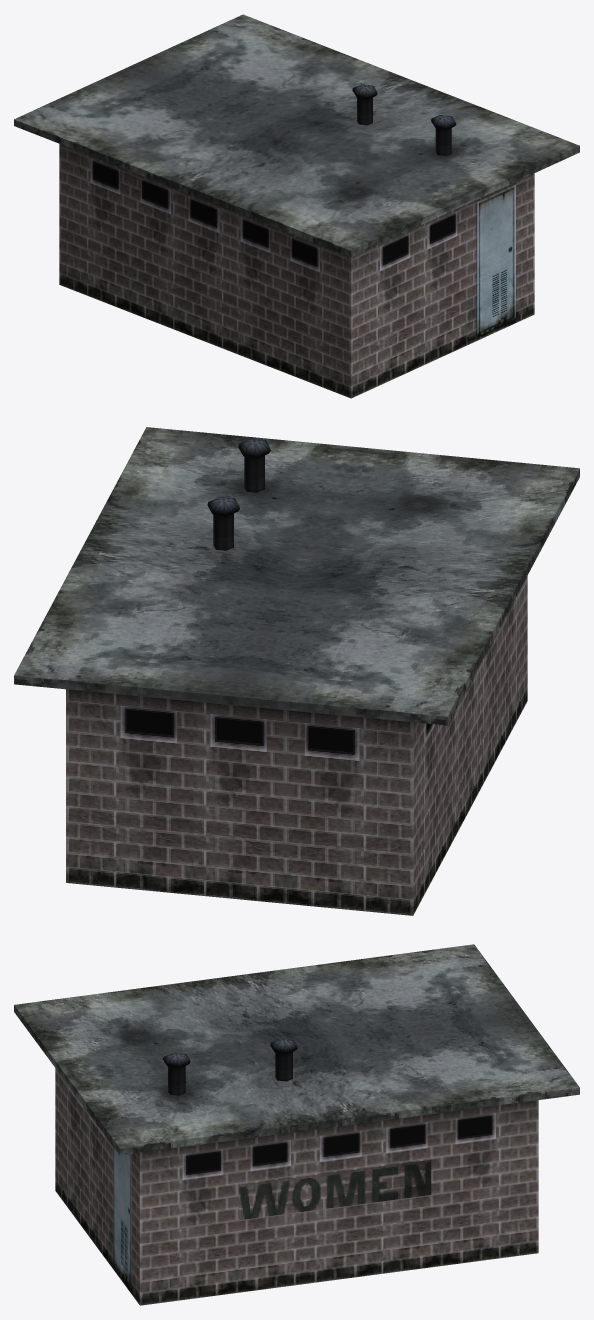
File: shed.fbx
3 views of the same model, one above another, from view 1: azimuth 30°, elevation 25°; view 2: azimuth 150°, elevation 25°; view 3: azimuth 270°, elevation 25° (orthographic). The views are drawn at different scales.
Parts seen in each view (by area): view 1: shed; view 2: shed; view 3: shed.
Boxes of the visible parts, x1,y1,x2,y2 form: shed: (14, 14, 579, 398); shed: (14, 427, 579, 915); shed: (14, 944, 579, 1305).
Bounding box in the file's own units: 112 × 54.52 × 131.
Materials: 1 (1 with a texture image).
